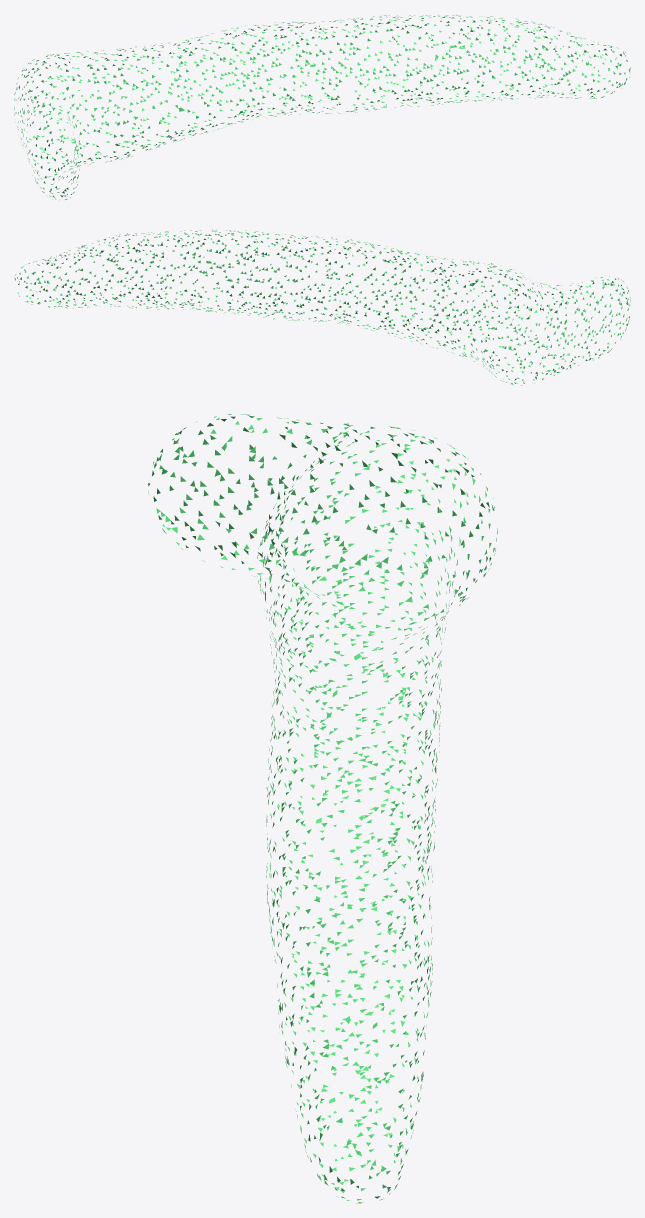
File: morph_020.glb
3 views of the same model, one above another, from view 1: azimuth 30°, elevation 25°; view 2: azimuth 150°, elevation 25°; view 3: azimuth 270°, elevation 25° (orthographic). The views are drawn at different scales.
Size of the model in its own units: 139 by 33.99 by 37.21.
